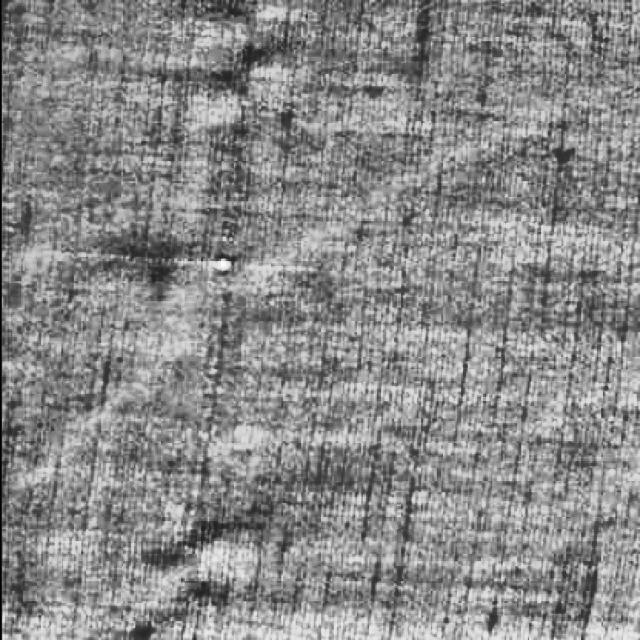hole: (211, 248, 236, 278)
